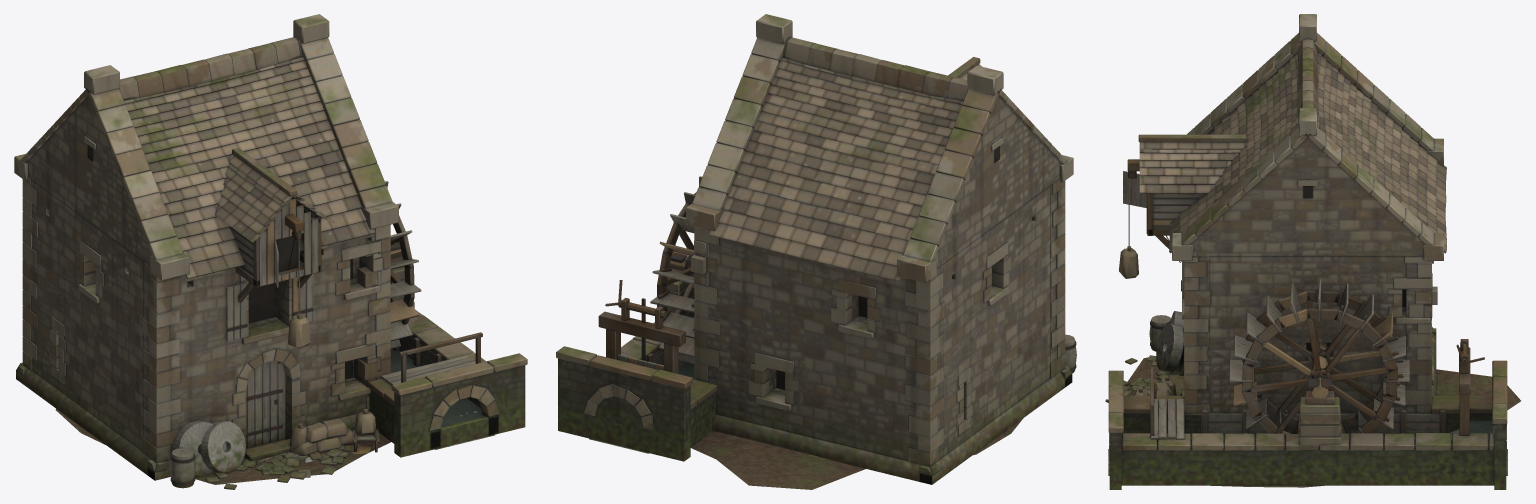
Rendered from mill.glb.
3 views of the same model, side by side, from view 1: azimuth 30°, elevation 25°; view 2: azimuth 150°, elevation 25°; view 3: azimuth 270°, elevation 25° (orthographic). The views are drawn at different scales.
Visible parts, largest first — view 1: mill_LOD0; view 2: mill_LOD0; view 3: mill_LOD0.
Boxes of the visible parts, x1=… form: mill_LOD0: x1=14, y1=14, x2=527, y2=489; mill_LOD0: x1=556, y1=14, x2=1076, y2=489; mill_LOD0: x1=1105, y1=14, x2=1520, y2=489.
Size of what is drawn, in the model's own units: 9.19 by 9.12 by 10.49.
1 material, 1 textured.
